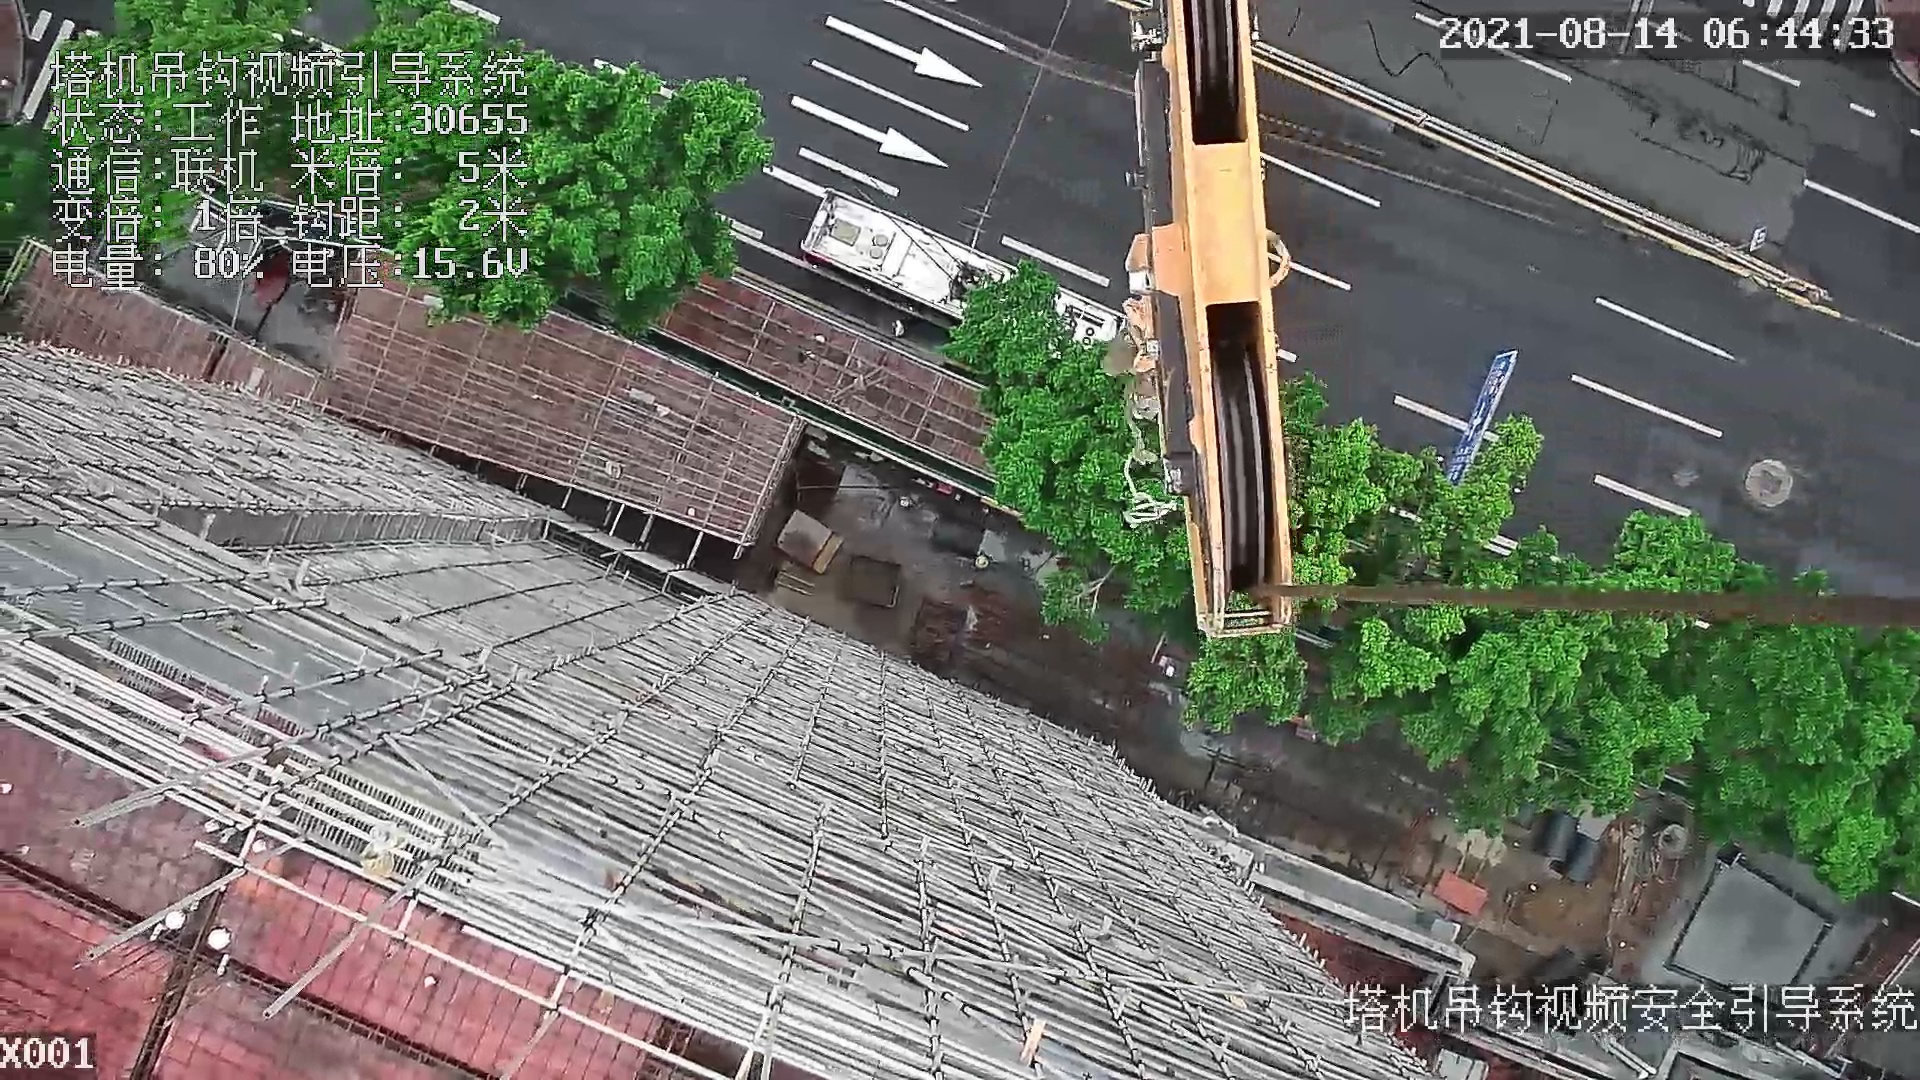hook: (1103, 10, 1310, 640)
person: (888, 320, 906, 341)
